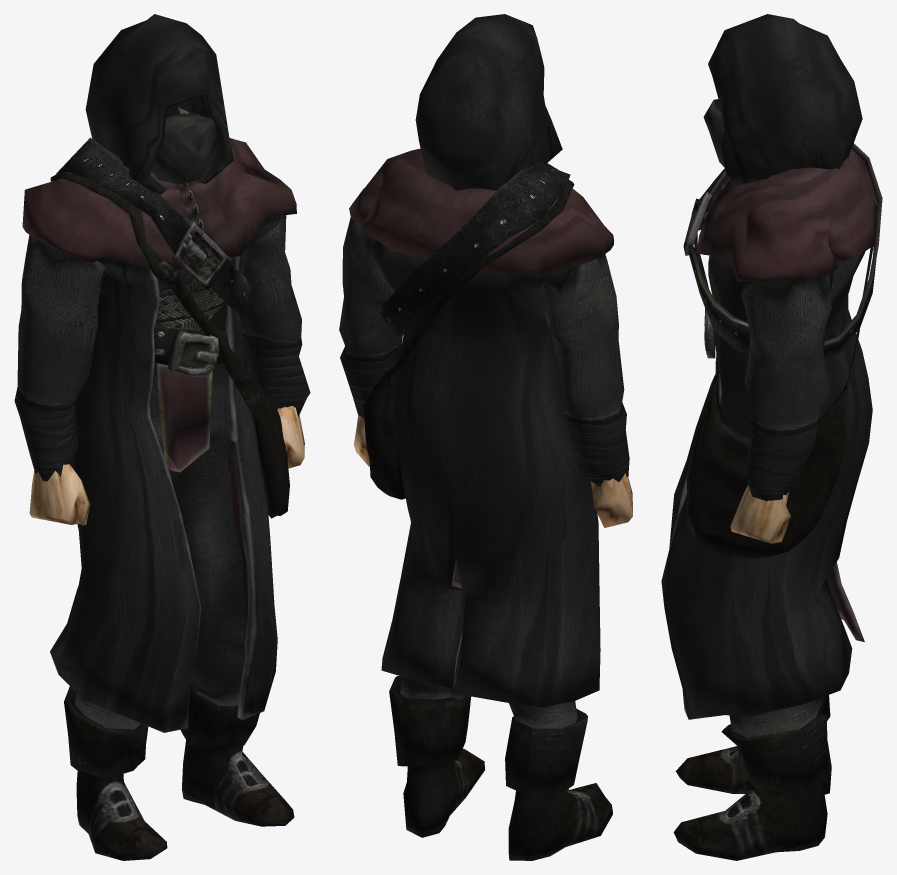
Rendered from DB_AKO_ARMOR_M.glb.
The picture shows the model from 3 angles, left to right: view 1: azimuth 30°, elevation 25°; view 2: azimuth 150°, elevation 25°; view 3: azimuth 270°, elevation 25°; orthographic projection.
Parts seen in each view (by area): view 1: DB_AKO_ARMOR_M; view 2: DB_AKO_ARMOR_M; view 3: DB_AKO_ARMOR_M.
Part boxes in pixels (x1,y1,x2,y2): DB_AKO_ARMOR_M: (14, 14, 310, 860); DB_AKO_ARMOR_M: (339, 14, 632, 860); DB_AKO_ARMOR_M: (661, 14, 882, 860).
Bounding box in the file's own units: 0.6834 × 1.89 × 0.4755.
2 materials, 2 textured.
